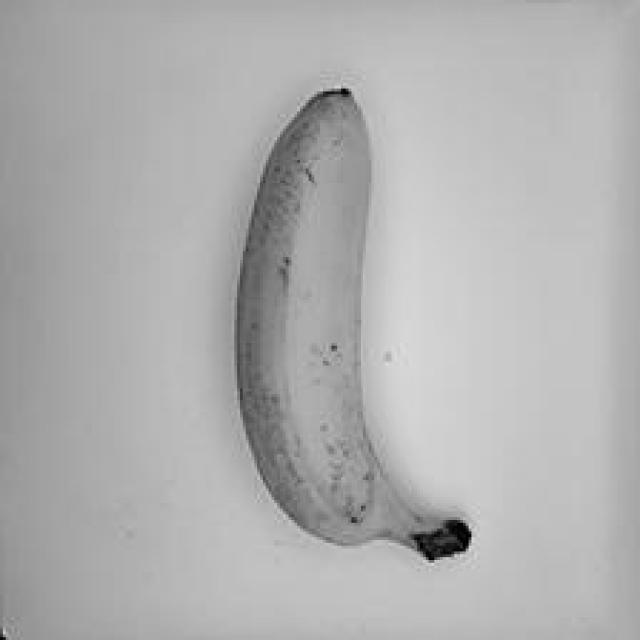Ripe: (220, 72, 484, 578)
